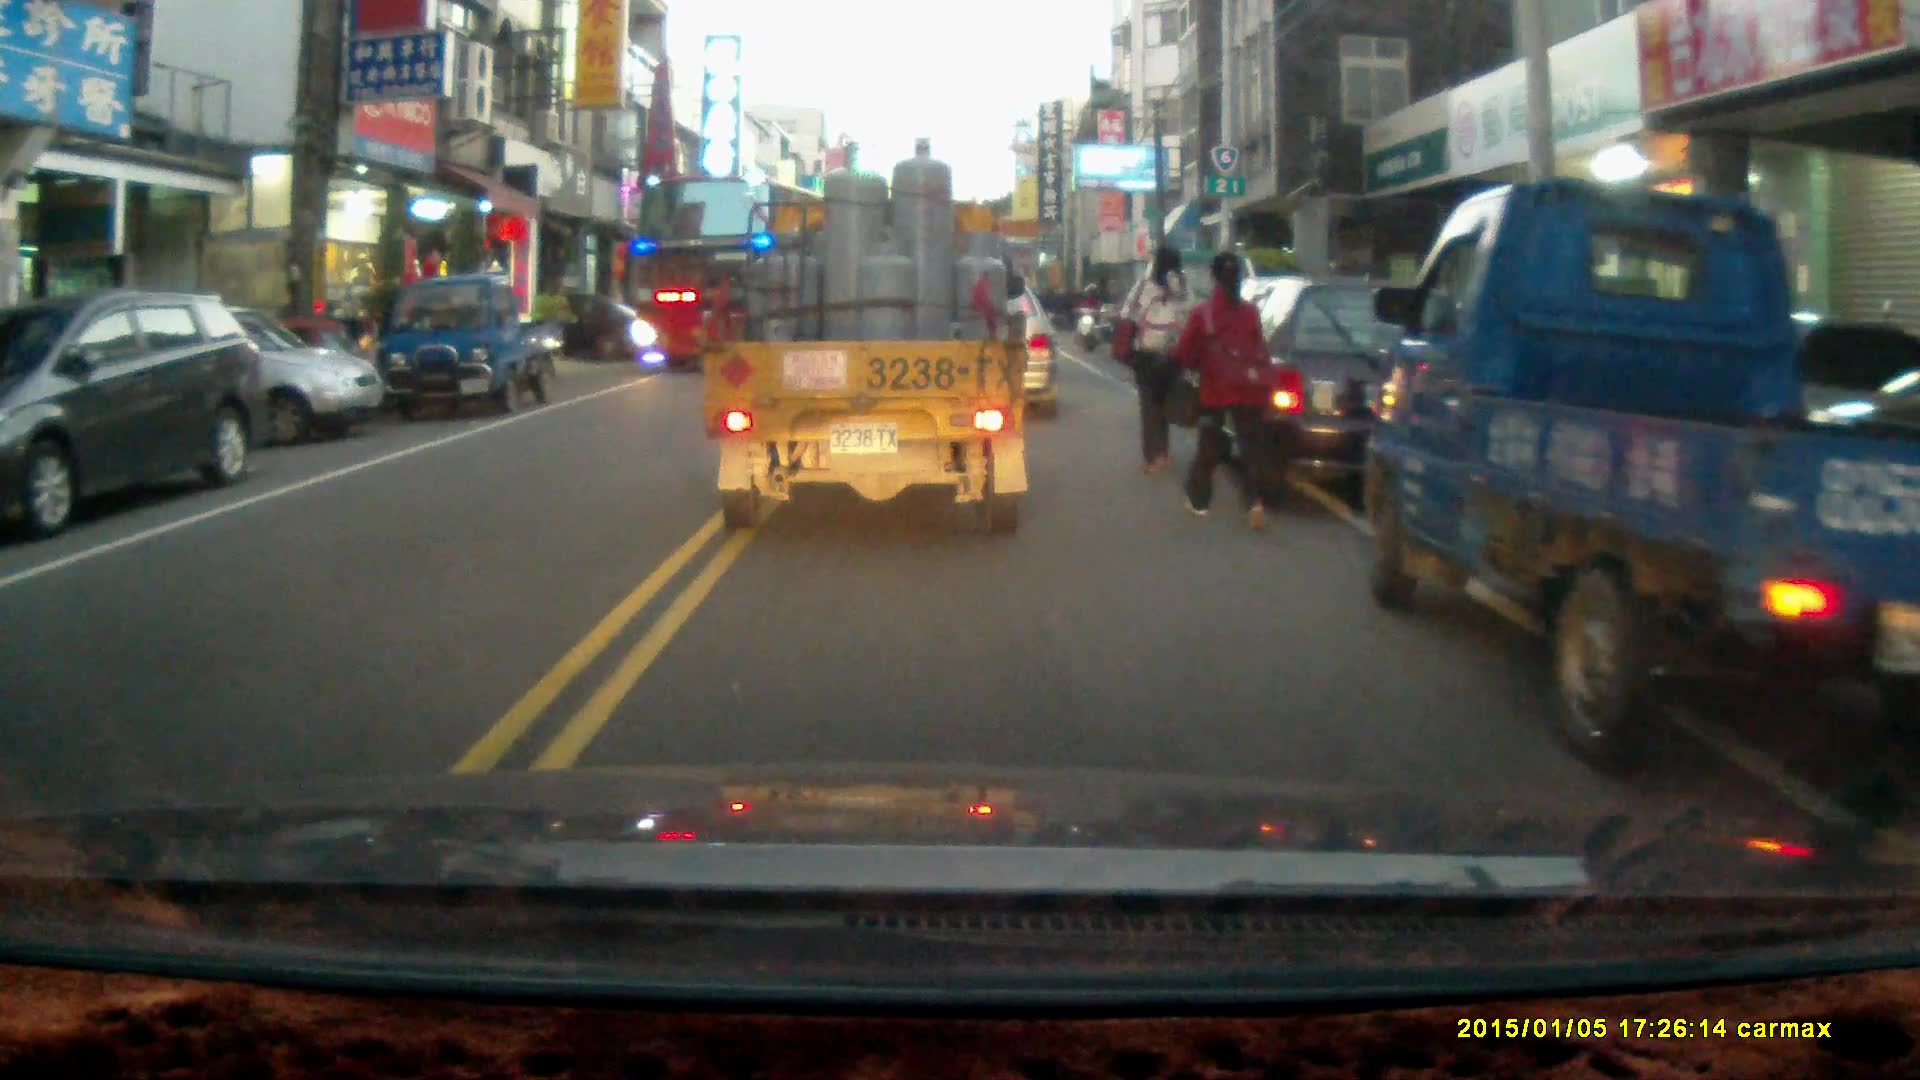pedestrian: (1171, 248, 1283, 530), (1116, 244, 1197, 479)
rider: (1075, 279, 1110, 352)
vehicle: (1366, 173, 1920, 769), (701, 132, 1037, 541), (1213, 277, 1517, 525), (1, 286, 266, 532), (627, 172, 870, 376), (63, 301, 388, 453), (377, 277, 556, 416)
